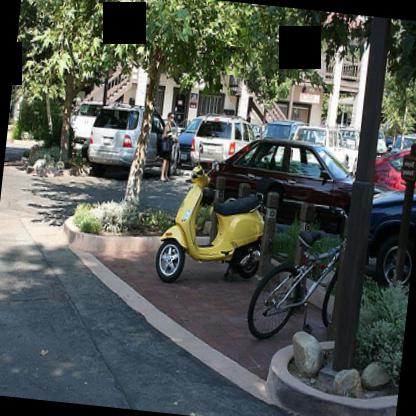handbag: (159, 136, 172, 159)
